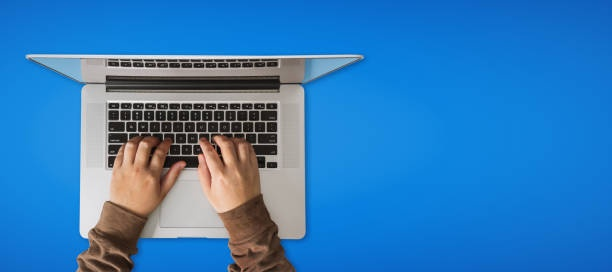keyboard: (106, 101, 280, 171)
laptop: (23, 53, 365, 241)
